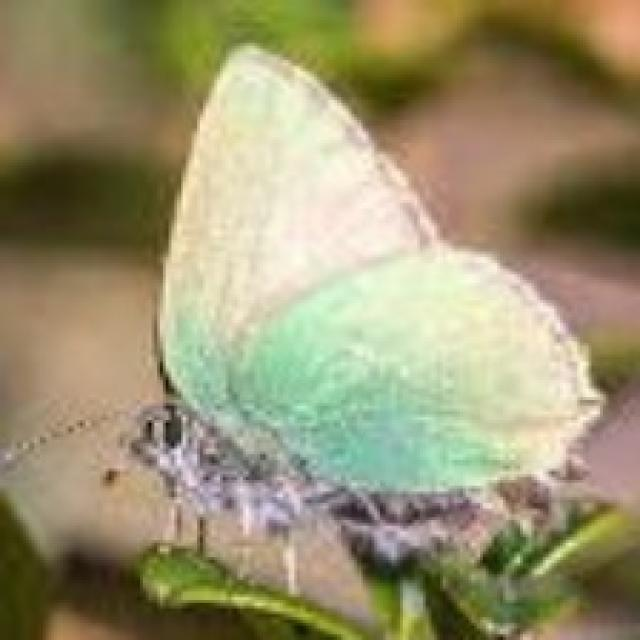butterfly: (0, 40, 609, 606)
